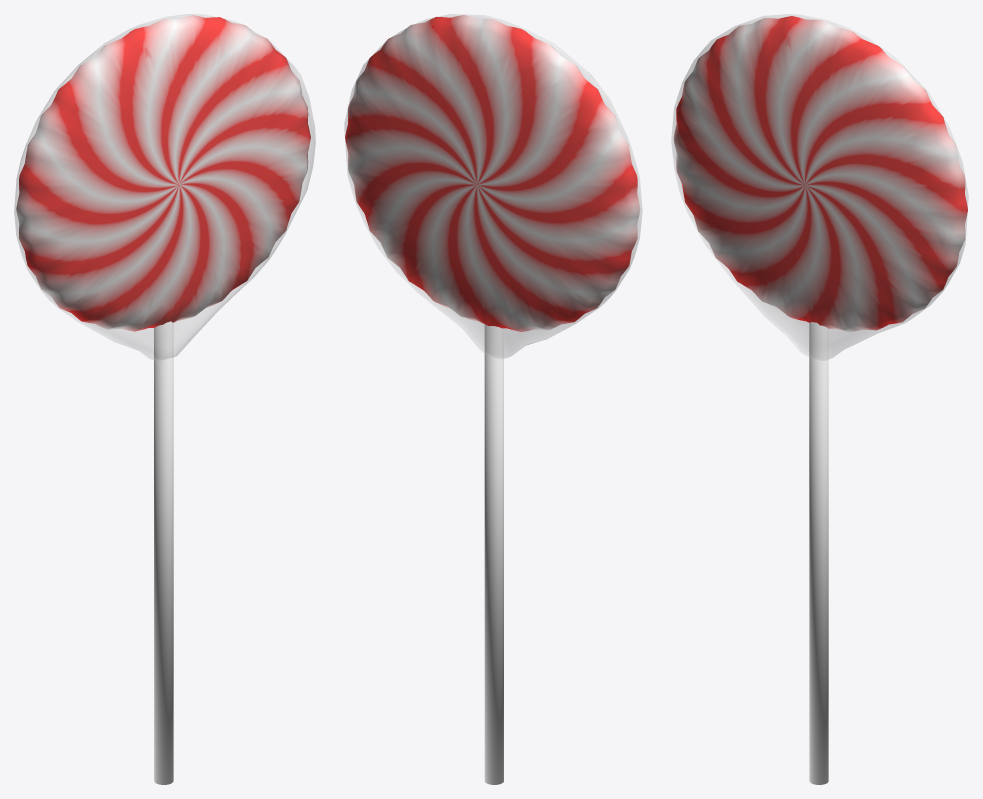
Rendered from lollipop.glb.
The picture shows the model from 3 angles, left to right: view 1: azimuth 30°, elevation 25°; view 2: azimuth 150°, elevation 25°; view 3: azimuth 330°, elevation 25°; orthographic projection.
Parts seen in each view (by area): view 1: Sphere, Circle.001, Cylinder; view 2: Sphere, Circle.001, Cylinder; view 3: Sphere, Circle.001, Cylinder.
Boxes of the visible parts, x1,y1,x2,y2 form: Sphere: (14, 14, 315, 360); Circle.001: (16, 15, 310, 331); Cylinder: (154, 321, 173, 784); Sphere: (344, 14, 642, 358); Circle.001: (345, 15, 640, 331); Cylinder: (484, 324, 503, 784); Sphere: (671, 14, 968, 360); Circle.001: (673, 16, 967, 332); Cylinder: (809, 322, 828, 784).
Bounding box in the file's own units: 0.7357 × 1.8 × 0.1521.
3 materials, 1 textured.
